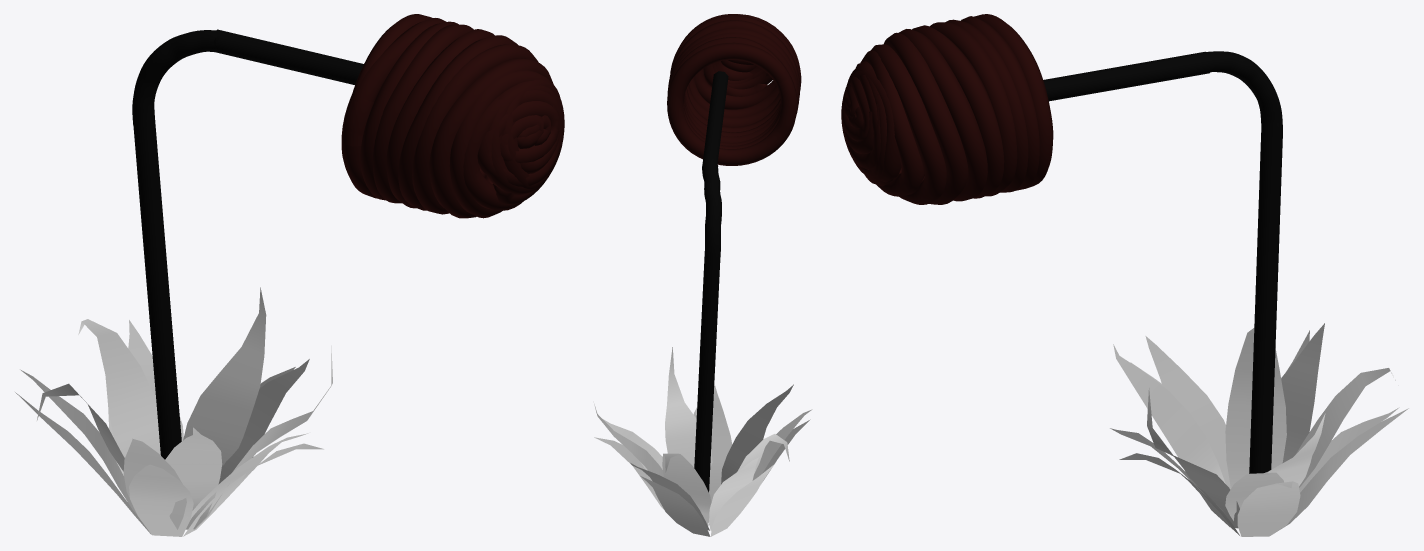
The picture shows the model from 3 angles, left to right: view 1: azimuth 30°, elevation 25°; view 2: azimuth 150°, elevation 25°; view 3: azimuth 270°, elevation 25°; orthographic projection. The views are drawn at different scales.
Parts seen in each view (by area): view 1: brush_Icing_g1_b0, brush_Petal_g1_b0; view 2: brush_Icing_g1_b0, brush_Petal_g1_b0; view 3: brush_Icing_g1_b0, brush_Petal_g1_b0.
Boxes of the visible parts, x1,y1,x2,y2 form: brush_Icing_g1_b0: [132, 14, 564, 459]; brush_Petal_g1_b0: [15, 287, 332, 536]; brush_Icing_g1_b0: [667, 14, 801, 492]; brush_Petal_g1_b0: [594, 347, 812, 536]; brush_Icing_g1_b0: [841, 14, 1282, 473]; brush_Petal_g1_b0: [1110, 323, 1408, 536].
Size of the model in its own units: 4.69 by 7.78 by 7.2.
